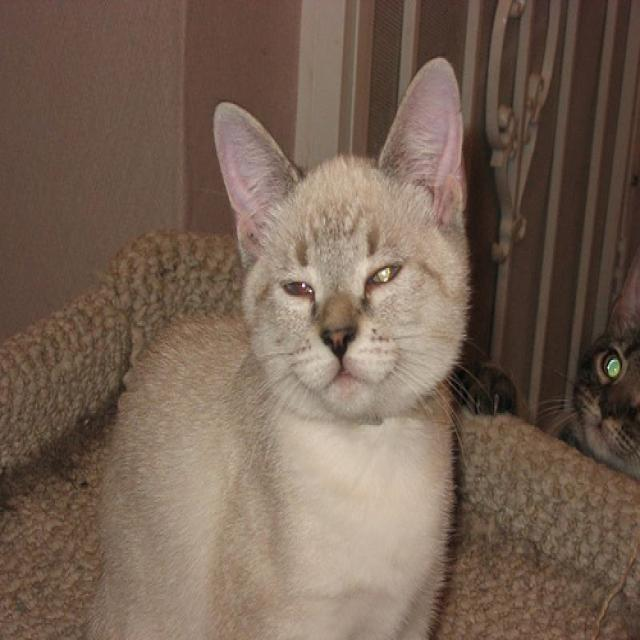left eye: (365, 260, 402, 288)
